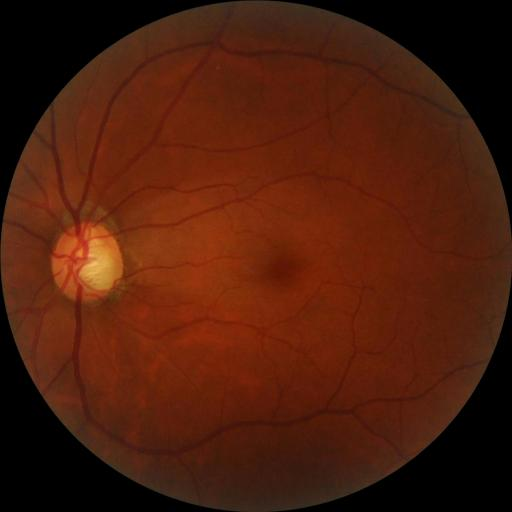Optic Cup: (76, 243, 106, 278)
Optic Disc: (51, 221, 123, 302)
